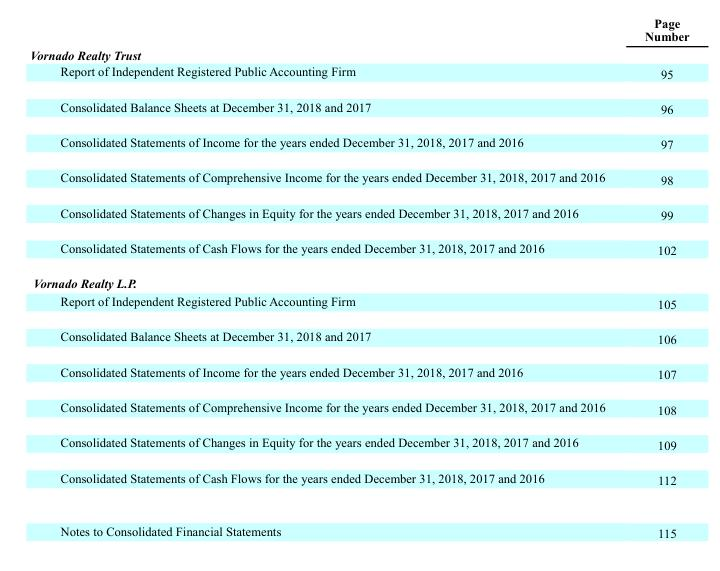table: (29, 28, 688, 540)
table column: (29, 28, 624, 540), (624, 28, 688, 540)
table column header: (29, 28, 688, 45)
table projected row header: (29, 266, 688, 291), (29, 45, 688, 62)
table row: (29, 461, 688, 505), (29, 89, 688, 125), (29, 195, 688, 231), (29, 319, 688, 355), (29, 425, 688, 461), (29, 125, 688, 160), (29, 160, 688, 195), (29, 231, 688, 266), (29, 355, 688, 390), (29, 390, 688, 425), (29, 505, 688, 540), (29, 291, 688, 319), (29, 62, 688, 89), (29, 266, 688, 291), (29, 28, 688, 45), (29, 45, 688, 62)
